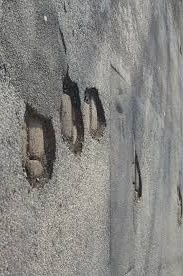pothole: (20, 100, 58, 187), (62, 63, 83, 157), (84, 82, 107, 151), (132, 151, 141, 199), (172, 184, 181, 228)
